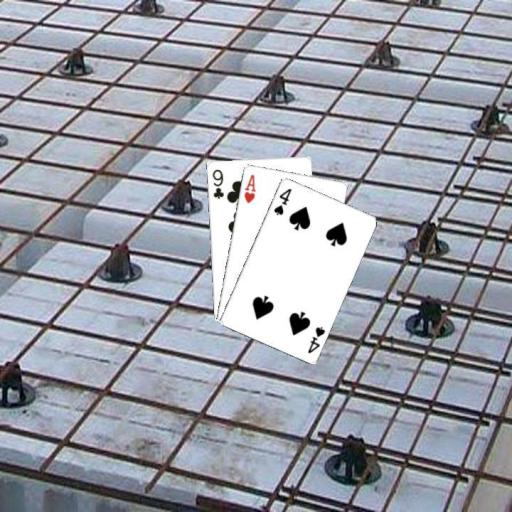4S: (270, 185, 293, 216), (305, 323, 327, 354)
9C: (209, 166, 225, 201)
AH: (241, 171, 258, 205)
